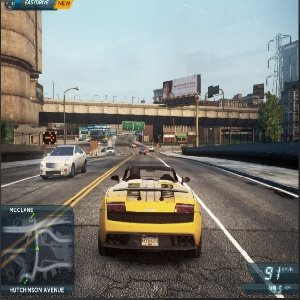ad: (162, 78, 199, 98)
lamp post: (61, 84, 82, 147)
road sign: (120, 120, 147, 130)
tree: (255, 90, 287, 144)
vehicle: (39, 143, 90, 177), (103, 143, 118, 156), (144, 143, 158, 153), (137, 147, 147, 156), (128, 140, 137, 150)
